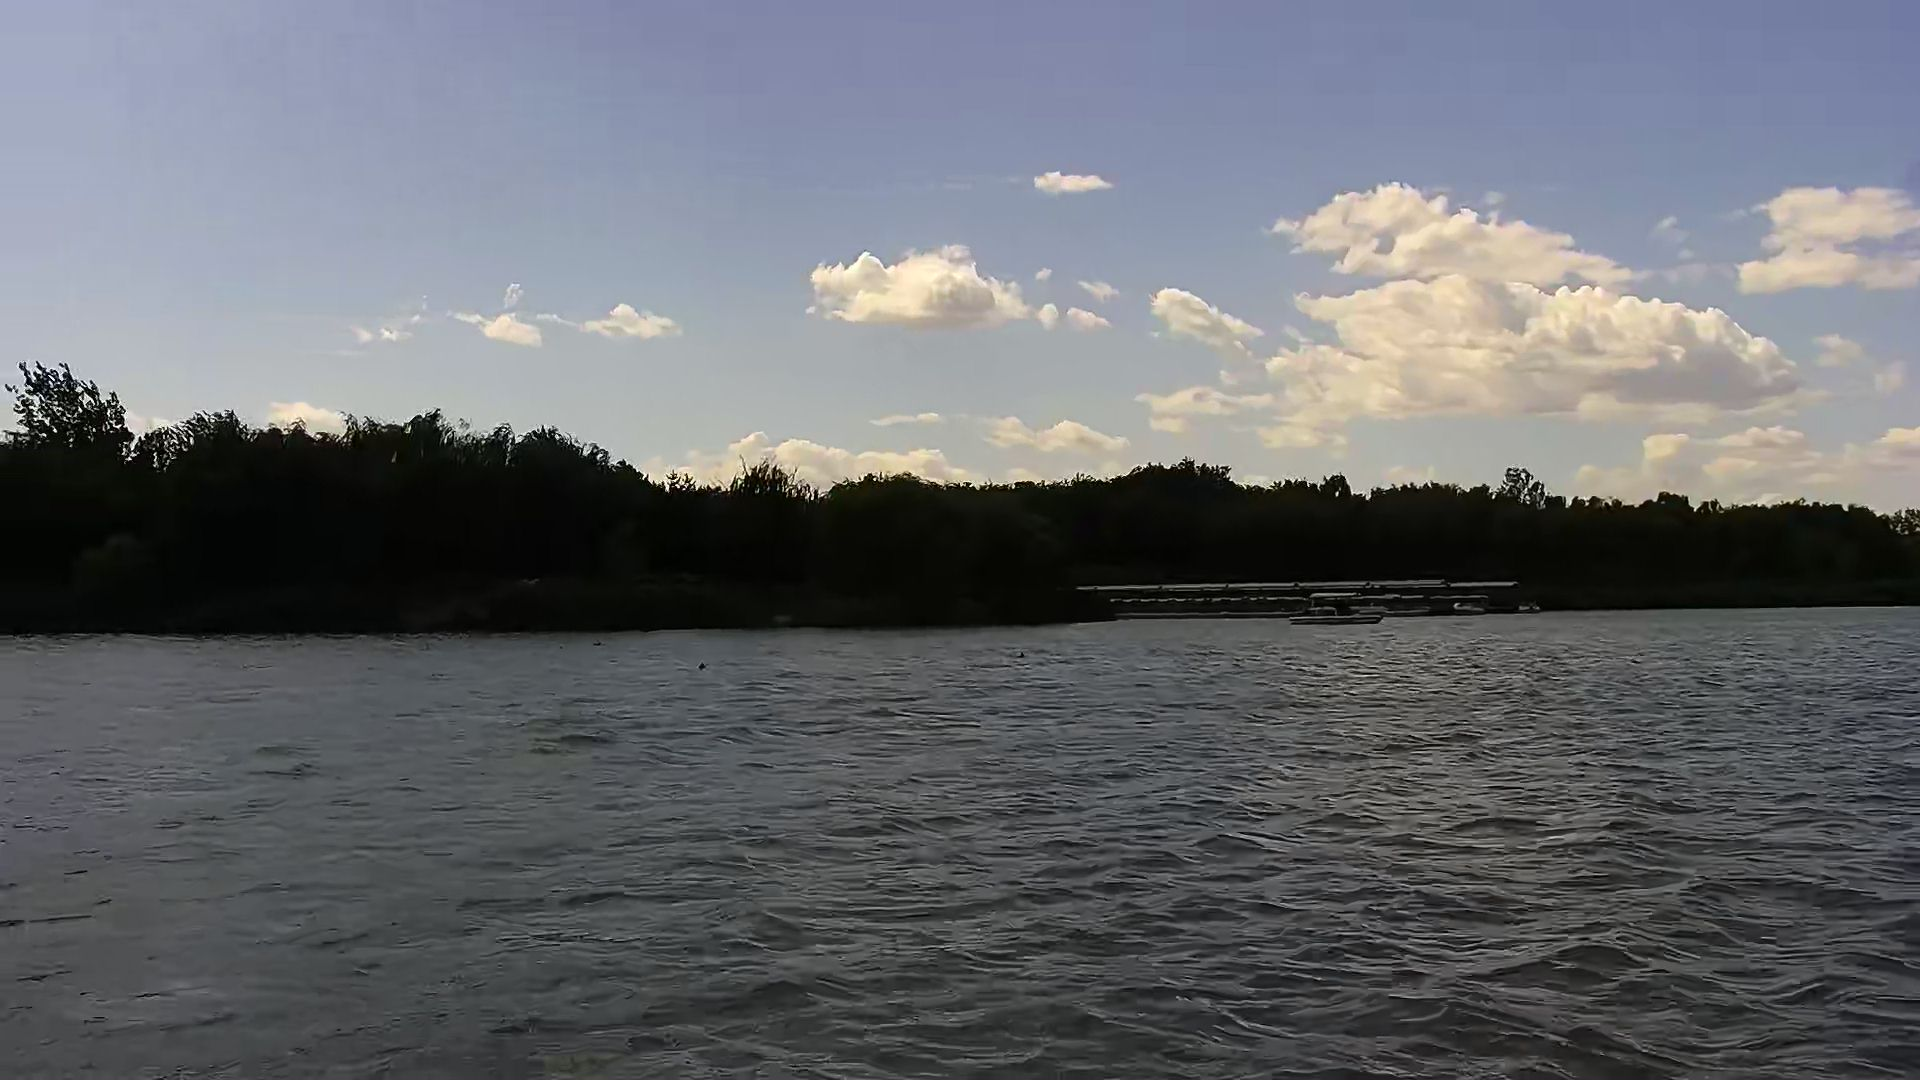boat: (1290, 591, 1390, 632)
harbor: (1069, 582, 1519, 622)
